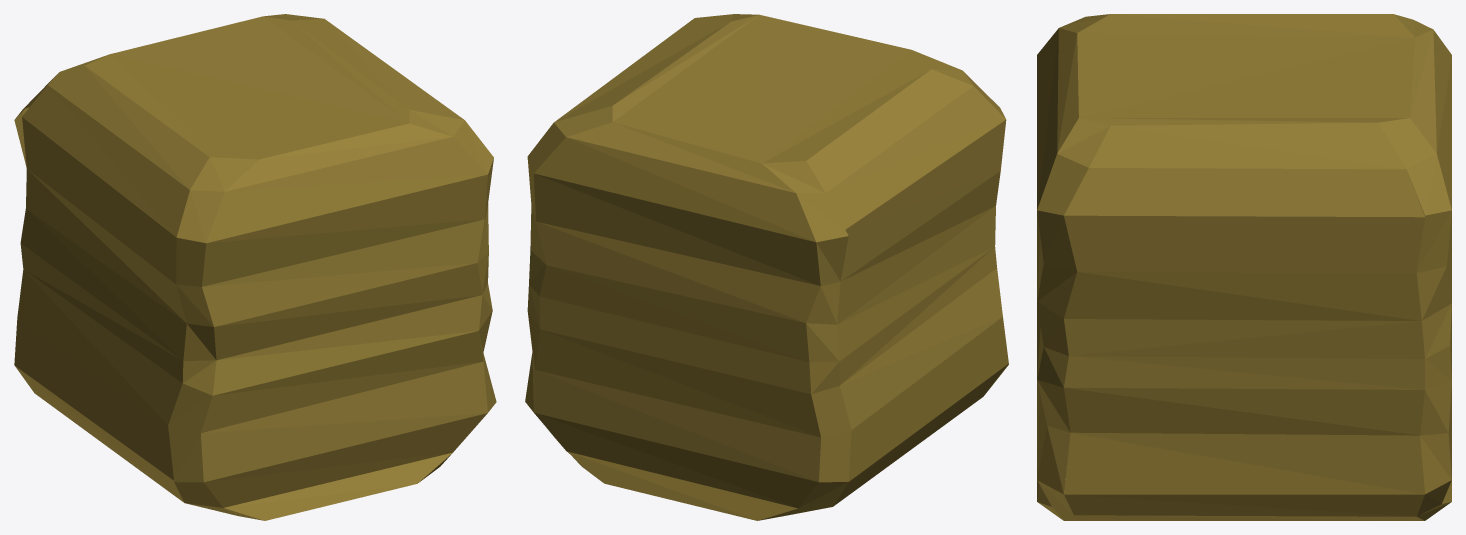
The model's file is obj_brick_4_0.obj.
The picture shows the model from 3 angles, left to right: view 1: azimuth 30°, elevation 25°; view 2: azimuth 150°, elevation 25°; view 3: azimuth 270°, elevation 25°; orthographic projection. The views are drawn at different scales.
Bounding box in the file's own units: 1.97 × 2.02 × 1.94.
